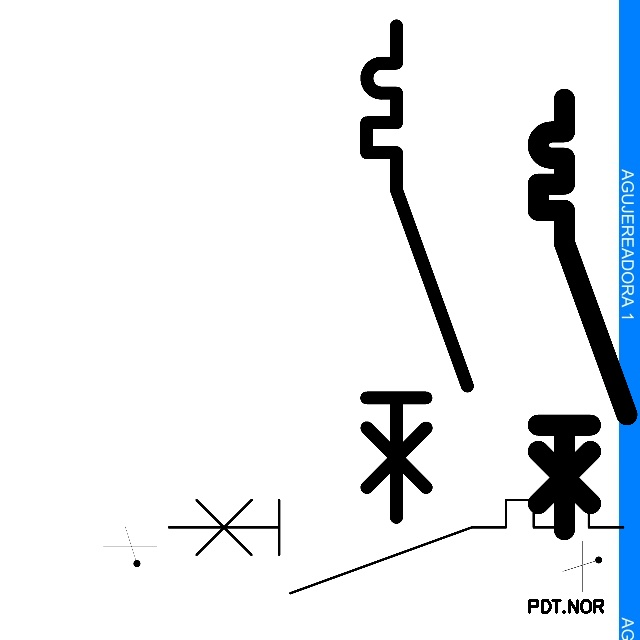interruptor_termomagnetico: (354, 13, 480, 530), (157, 488, 635, 605), (527, 88, 638, 541)
